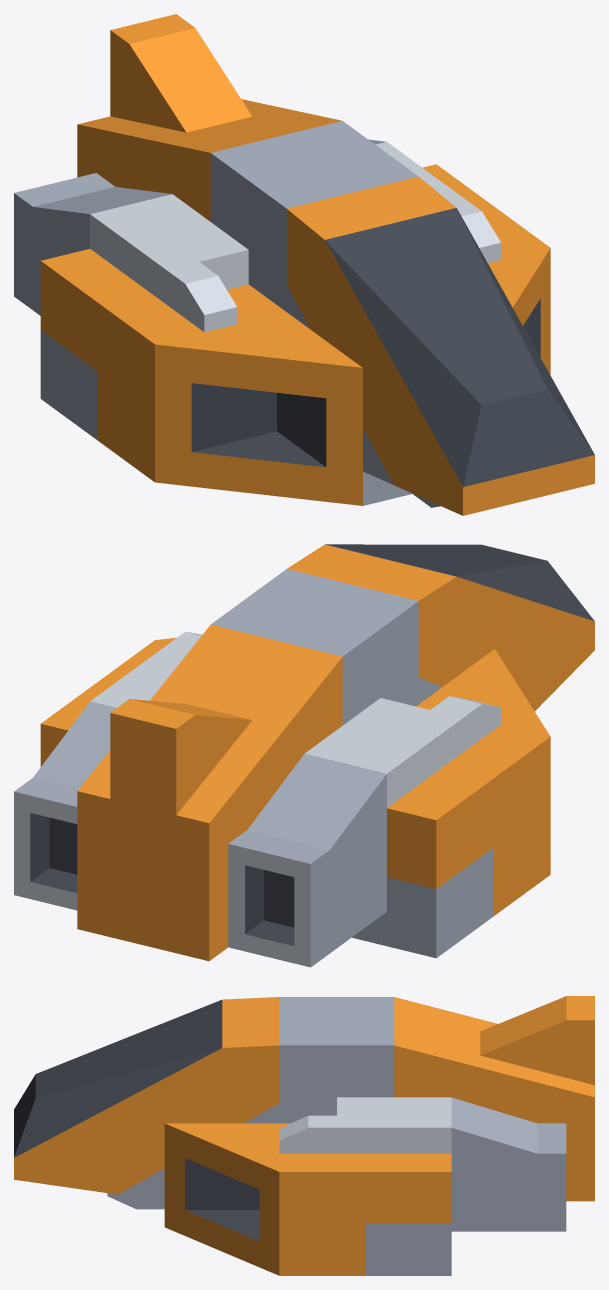
File: craft_racer.dae
3 views of the same model, one above another, from view 1: azimuth 30°, elevation 25°; view 2: azimuth 150°, elevation 25°; view 3: azimuth 270°, elevation 25° (orthographic). The views are drawn at different scales.
Visible parts, largest first — view 1: craft_racer; view 2: craft_racer; view 3: craft_racer.
Boxes of the visible parts, bbox=[...] form: craft_racer: bbox=[14, 14, 594, 515]; craft_racer: bbox=[14, 544, 594, 967]; craft_racer: bbox=[14, 996, 594, 1275].
Size of the model in its own units: 1.2 by 0.75 by 2.03.
